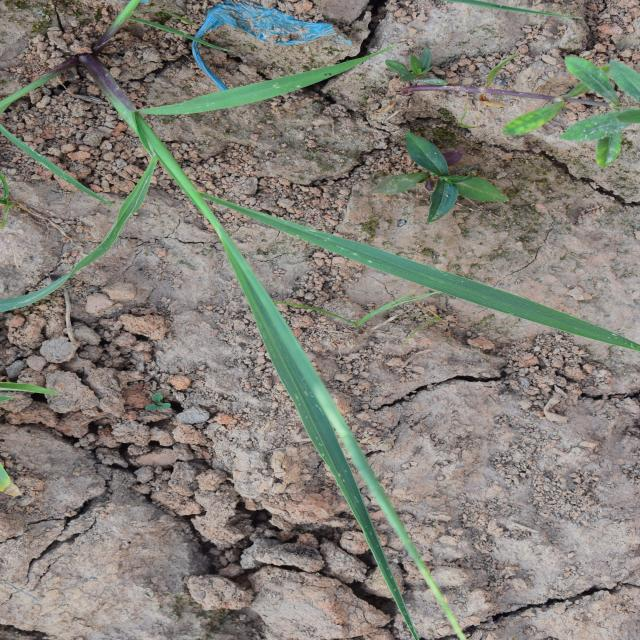green_foxtail: (52, 56, 570, 447)
